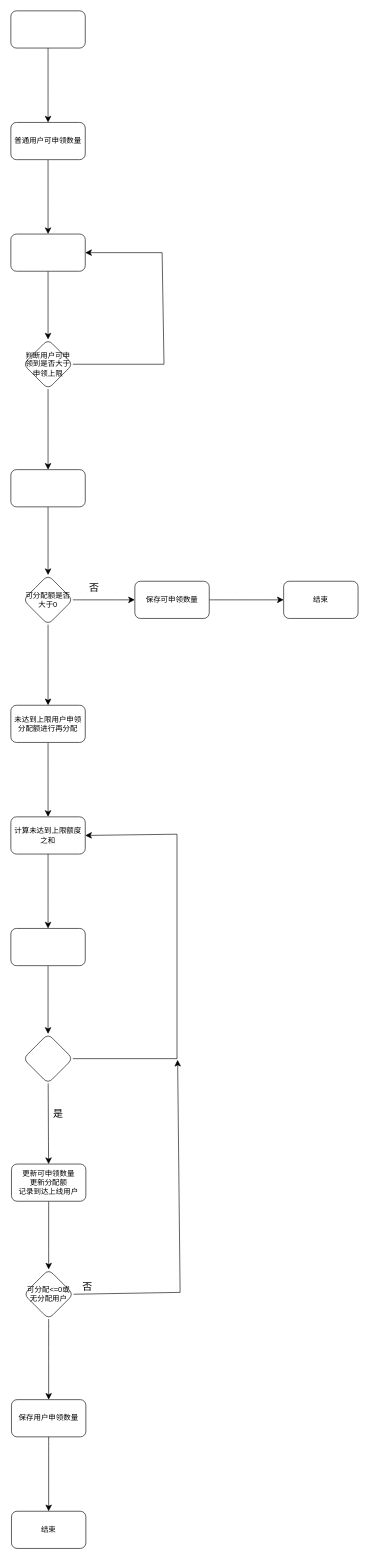
Some shapes in this 369 by 1559 pixel diagram are drawn without their labels. The box of each missing label's shape, as (x1, y1, x2, y2) in pixels:
开始: (10, 10, 85, 48)
循环用户: (10, 233, 85, 271)
更新可申领数量为上限值 更新可分配额 记录达到上限用户: (10, 469, 85, 507)
申领数量是否达到上限: (23, 1033, 73, 1083)
计算用户可申领数: (10, 928, 85, 966)
